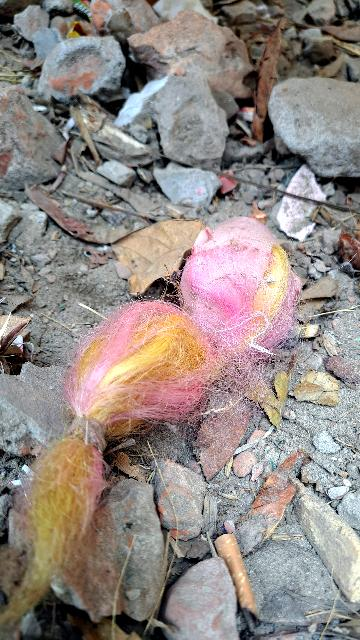hardplastic: (17, 215, 303, 555)
